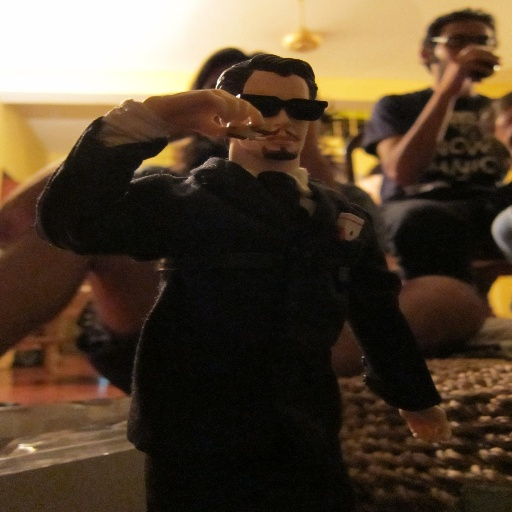hand: (78, 80, 255, 152), (438, 44, 501, 95), (399, 404, 454, 444)
